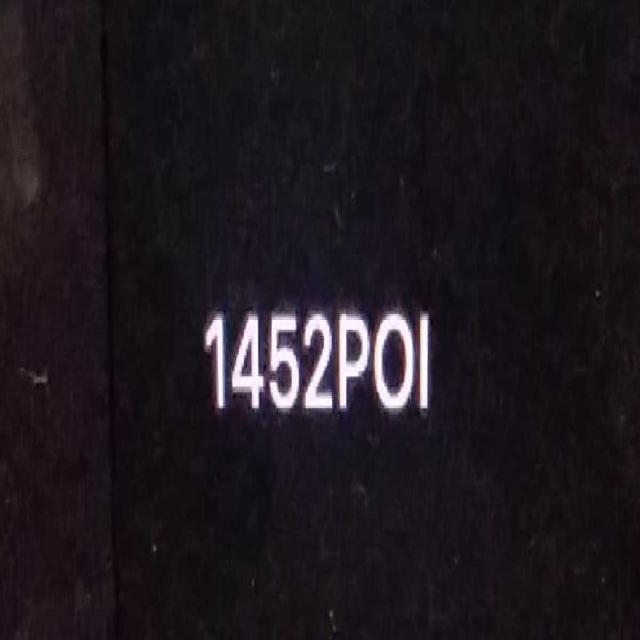license_plate: (198, 281, 436, 434), (334, 304, 371, 412)
